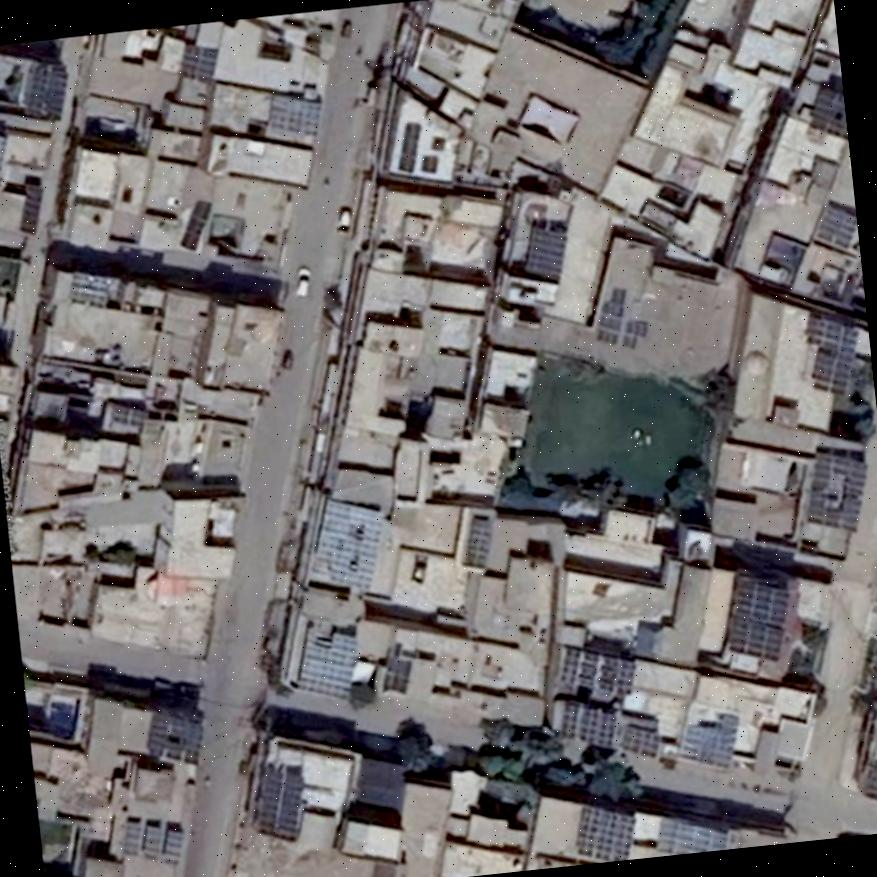Solarpanel: (313, 496, 383, 590), (730, 579, 789, 664), (806, 451, 867, 532), (800, 313, 859, 395), (296, 626, 358, 697), (559, 648, 637, 695), (682, 710, 738, 767), (575, 807, 634, 859), (257, 768, 301, 837), (145, 713, 203, 764), (651, 816, 724, 856), (122, 820, 181, 862), (560, 703, 619, 745), (24, 66, 67, 119), (524, 229, 566, 282), (270, 92, 320, 135), (808, 86, 847, 138), (816, 206, 856, 249), (178, 200, 212, 250), (181, 45, 219, 83), (69, 271, 109, 307), (620, 727, 663, 757), (467, 518, 491, 567), (20, 184, 43, 235), (111, 404, 147, 423), (863, 767, 877, 799)
